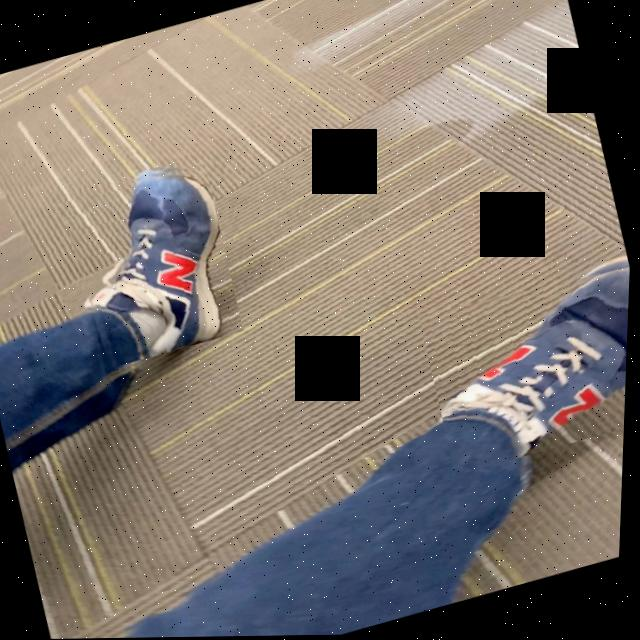shoe: (444, 267, 632, 458), (92, 174, 222, 358)
